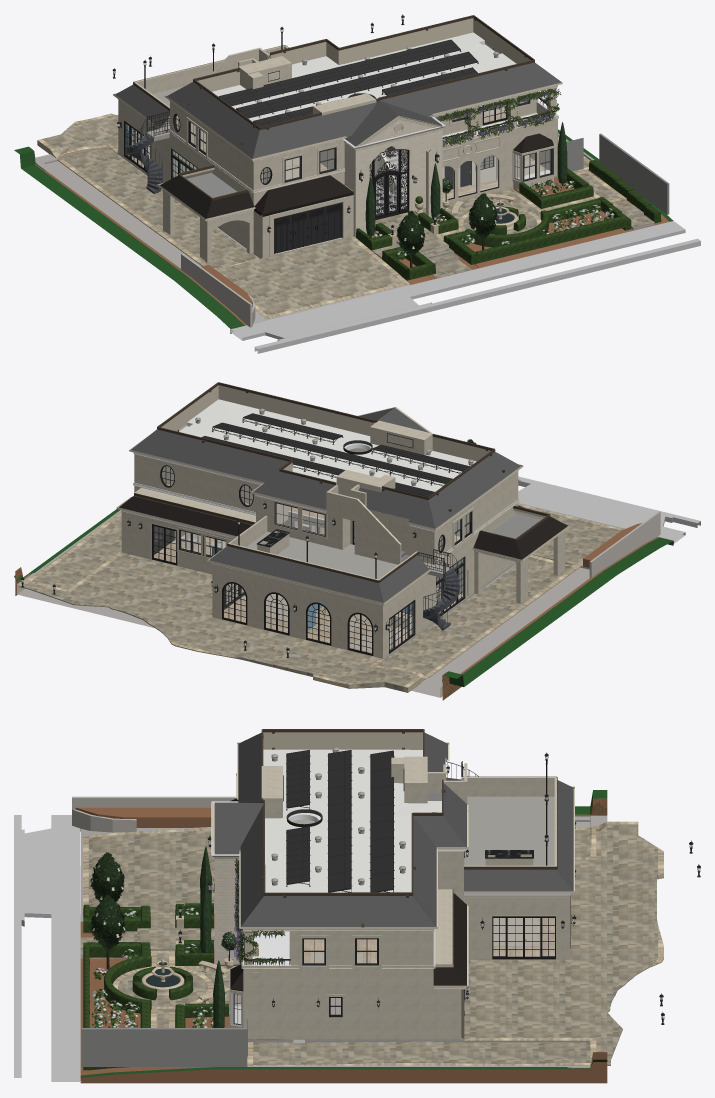
Rendered from exterior-house-5d36518b1799.glb.
The picture shows the model from 3 angles, top to bottom: view 1: azimuth 30°, elevation 25°; view 2: azimuth 150°, elevation 25°; view 3: azimuth 270°, elevation 25°; orthographic projection. The views are drawn at different scales.
Parts seen in each view (by area): view 1: exterior-house-2097c6bf0b01330b, exterior-house-b5dfe7249a3eb059, exterior-house-e7e6fa835f441169, exterior-house-27d577fbd7f2ff4b, exterior-house-aee2d046b0172b1e, exterior-house-772a07b3069847f0, exterior-house-e33d7b378dc851e2, exterior-house-d56ee2a9d54b1fc2, exterior-house-8ae50a6395ceb8a4, exterior-house-0b9d5d1cd0b2c60f, exterior-house-7cf8e5cfa8b264af, exterior-house-25c3ff3929e46046 (+47 smaller); view 2: exterior-house-37d1b262fca80116, exterior-house-d56ee2a9d54b1fc2, exterior-house-27d577fbd7f2ff4b, exterior-house-8ae50a6395ceb8a4, exterior-house-969b861f9850351e, exterior-house-aee2d046b0172b1e, exterior-house-c91f911e25c8cae7, exterior-house-5febae1537653d02, exterior-house-b5dfe7249a3eb059, exterior-house-3763e2fb8578d282, exterior-house-2c1fd33d433632d0, exterior-house-0cae3eb2f2d52fad (+38 smaller); view 3: exterior-house-37d1b262fca80116, exterior-house-aee2d046b0172b1e, exterior-house-b5dfe7249a3eb059, exterior-house-d56ee2a9d54b1fc2, exterior-house-2097c6bf0b01330b, exterior-house-2c1fd33d433632d0, exterior-house-07f5bde4319b7ab4, exterior-house-e7e6fa835f441169, exterior-house-a75a0c9c223328ee, exterior-house-ded88bd99590d377, exterior-house-af97eba351c411ae, exterior-house-e706aa16b4547c37 (+54 smaller).
Boxes of the visible parts, x1,y1,x2,y2 form: exterior-house-2097c6bf0b01330b: [216, 236, 409, 318]; exterior-house-b5dfe7249a3eb059: [230, 221, 685, 340]; exterior-house-e7e6fa835f441169: [356, 182, 625, 280]; exterior-house-27d577fbd7f2ff4b: [57, 147, 260, 269]; exterior-house-aee2d046b0172b1e: [14, 129, 673, 333]; exterior-house-772a07b3069847f0: [254, 238, 700, 353]; exterior-house-e33d7b378dc851e2: [380, 62, 560, 115]; exterior-house-d56ee2a9d54b1fc2: [212, 32, 516, 121]; exterior-house-8ae50a6395ceb8a4: [35, 133, 594, 323]; exterior-house-0b9d5d1cd0b2c60f: [236, 51, 478, 118]; exterior-house-7cf8e5cfa8b264af: [218, 39, 461, 105]; exterior-house-25c3ff3929e46046: [253, 101, 377, 158]; exterior-house-37d1b262fca80116: [18, 552, 427, 692]; exterior-house-d56ee2a9d54b1fc2: [181, 399, 476, 491]; exterior-house-27d577fbd7f2ff4b: [377, 555, 580, 677]; exterior-house-8ae50a6395ceb8a4: [17, 503, 624, 697]; exterior-house-969b861f9850351e: [212, 566, 380, 657]; exterior-house-aee2d046b0172b1e: [14, 509, 673, 700]; exterior-house-c91f911e25c8cae7: [131, 429, 288, 482]; exterior-house-5febae1537653d02: [209, 546, 383, 602]; exterior-house-b5dfe7249a3eb059: [518, 484, 685, 543]; exterior-house-3763e2fb8578d282: [134, 454, 259, 512]; exterior-house-2c1fd33d433632d0: [28, 512, 121, 589]; exterior-house-0cae3eb2f2d52fad: [428, 451, 520, 528]; exterior-house-37d1b262fca80116: [464, 821, 663, 1065]; exterior-house-aee2d046b0172b1e: [80, 790, 607, 1083]; exterior-house-b5dfe7249a3eb059: [24, 815, 81, 1081]; exterior-house-d56ee2a9d54b1fc2: [263, 749, 441, 892]; exterior-house-2097c6bf0b01330b: [83, 828, 214, 921]; exterior-house-2c1fd33d433632d0: [247, 1041, 590, 1065]; exterior-house-07f5bde4319b7ab4: [81, 1028, 247, 1066]; exterior-house-e7e6fa835f441169: [83, 903, 228, 1027]; exterior-house-a75a0c9c223328ee: [241, 896, 436, 926]; exterior-house-ded88bd99590d377: [464, 796, 554, 865]; exterior-house-af97eba351c411ae: [372, 979, 461, 1038]; exterior-house-e706aa16b4547c37: [464, 897, 567, 959].
Bounding box in the file's own units: 31.9 × 8.68 × 35.2.
110 materials, 31 textured.
